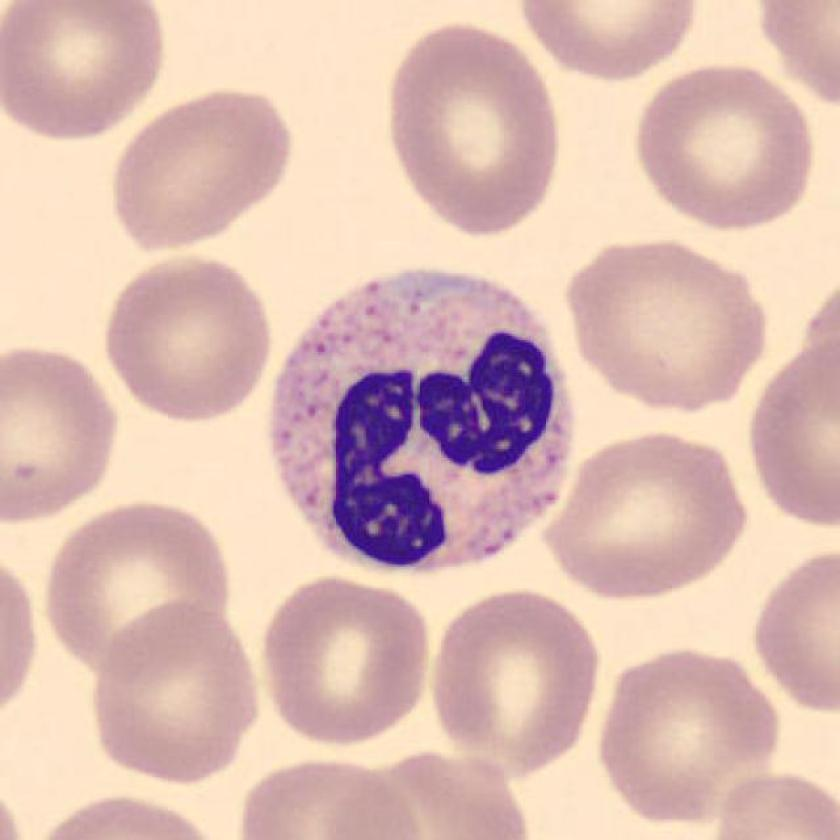neutrophil: (269, 273, 576, 573)
